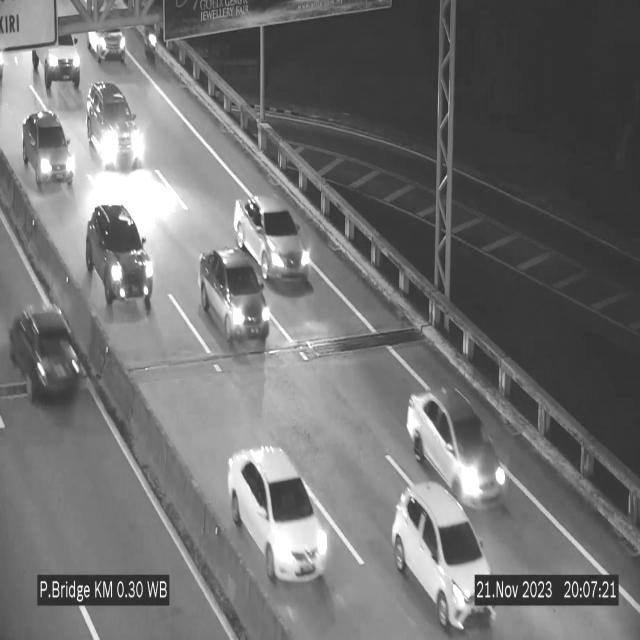Car: (392, 484, 492, 631), (228, 446, 328, 582), (407, 388, 512, 504), (86, 204, 154, 319), (199, 247, 269, 351), (234, 193, 310, 284), (84, 77, 148, 169), (18, 106, 80, 196)
